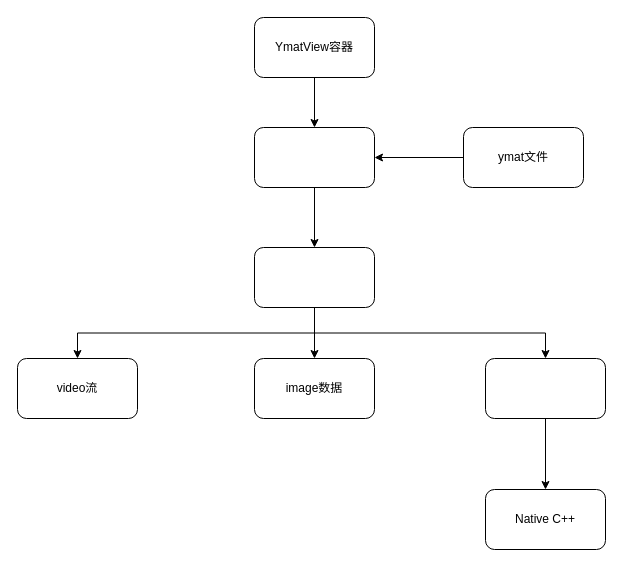
This 623x567 diagram has some shape labels left out. The centre of each missing label's shape, as x and y in pixels:
json: (545,388)
YmatDecoder: (314,277)
YmatPlayer: (314,157)
